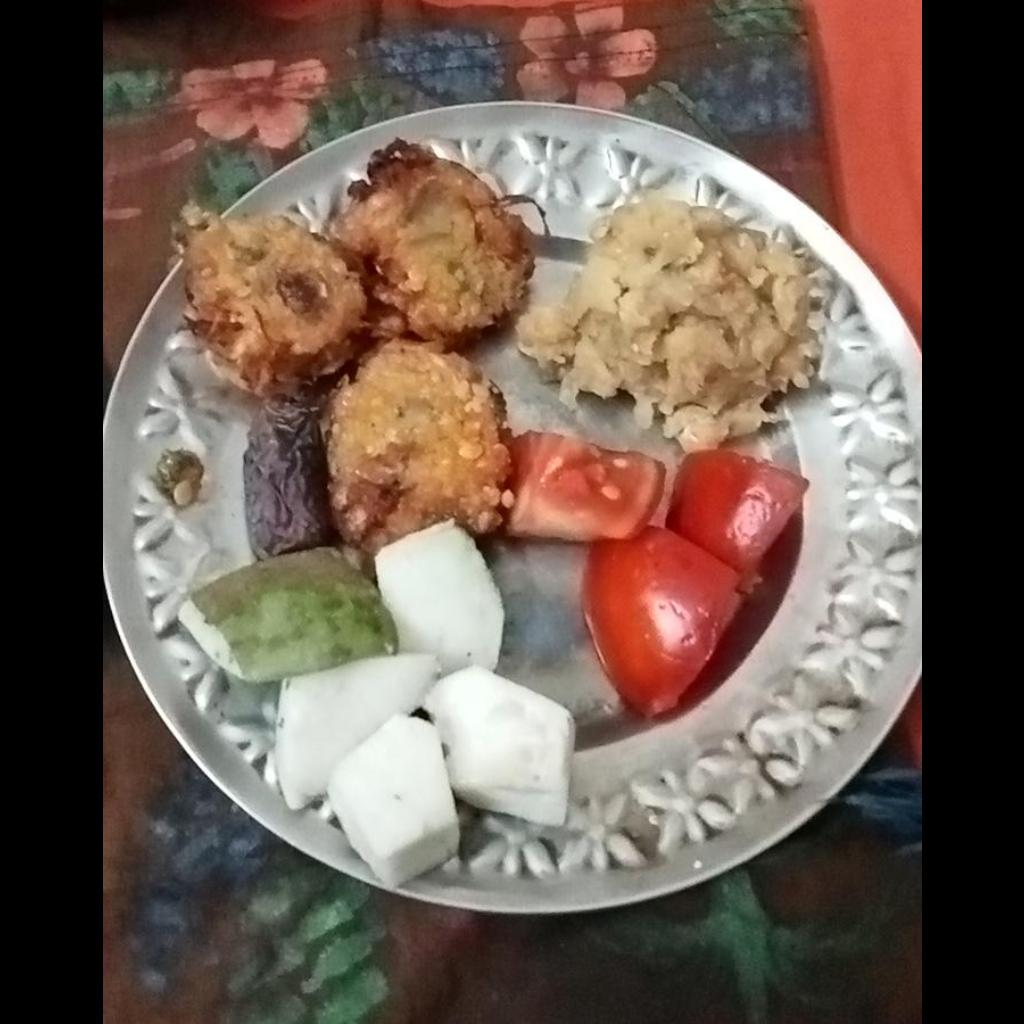daal: (516, 190, 817, 444)
dates: (238, 404, 319, 552)
guava: (171, 538, 576, 885)
peyaju: (170, 148, 530, 540)
tomato: (503, 428, 818, 711)
